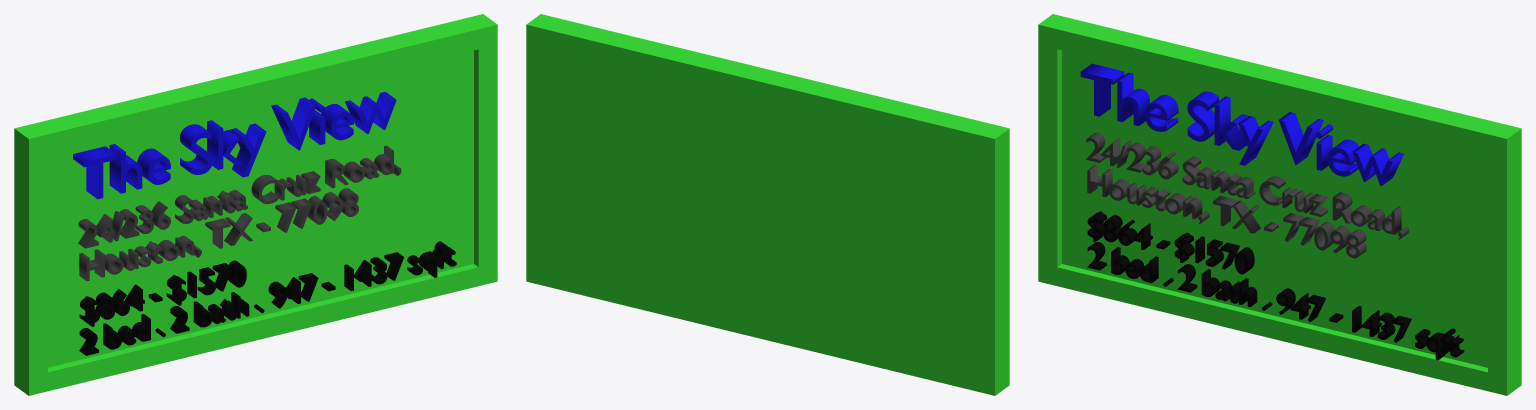
Rendered from property_details.gltf.
The picture shows the model from 3 angles, left to right: view 1: azimuth 30°, elevation 25°; view 2: azimuth 150°, elevation 25°; view 3: azimuth 330°, elevation 25°; orthographic projection.
Parts seen in each view (by area): view 1: Cube, Text.002, Text, Text.001; view 2: Cube; view 3: Cube, Text.002, Text, Text.001.
Boxes of the visible parts, box(x1,y1,x2,y2) form: Cube: box(14, 14, 497, 395); Text.002: box(78, 145, 401, 281); Text: box(73, 91, 396, 199); Text.001: box(79, 241, 456, 355); Cube: box(526, 14, 1009, 395); Cube: box(1038, 14, 1521, 395); Text.002: box(1086, 132, 1409, 258); Text: box(1080, 63, 1403, 185); Text.001: box(1087, 211, 1464, 360).
Bounding box in the file's own units: 7.64 × 4 × 0.5958.
